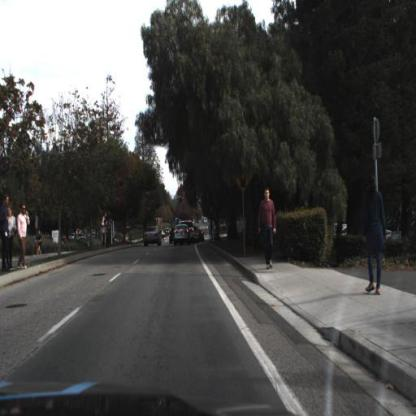biker: (35, 229, 44, 257)
car: (143, 225, 162, 247), (174, 223, 191, 246)
pedestrian: (363, 171, 388, 298), (259, 190, 279, 272), (262, 188, 276, 271), (7, 204, 19, 274), (17, 204, 29, 273), (1, 194, 9, 277), (143, 227, 161, 250), (100, 210, 108, 241), (107, 220, 112, 247)
